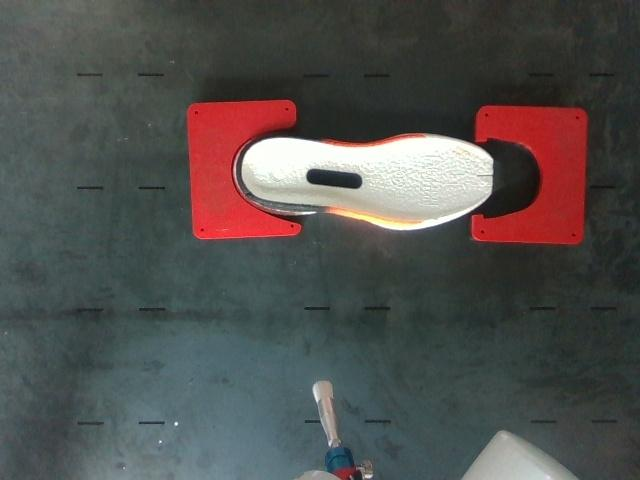shoes: (233, 137, 503, 227)
